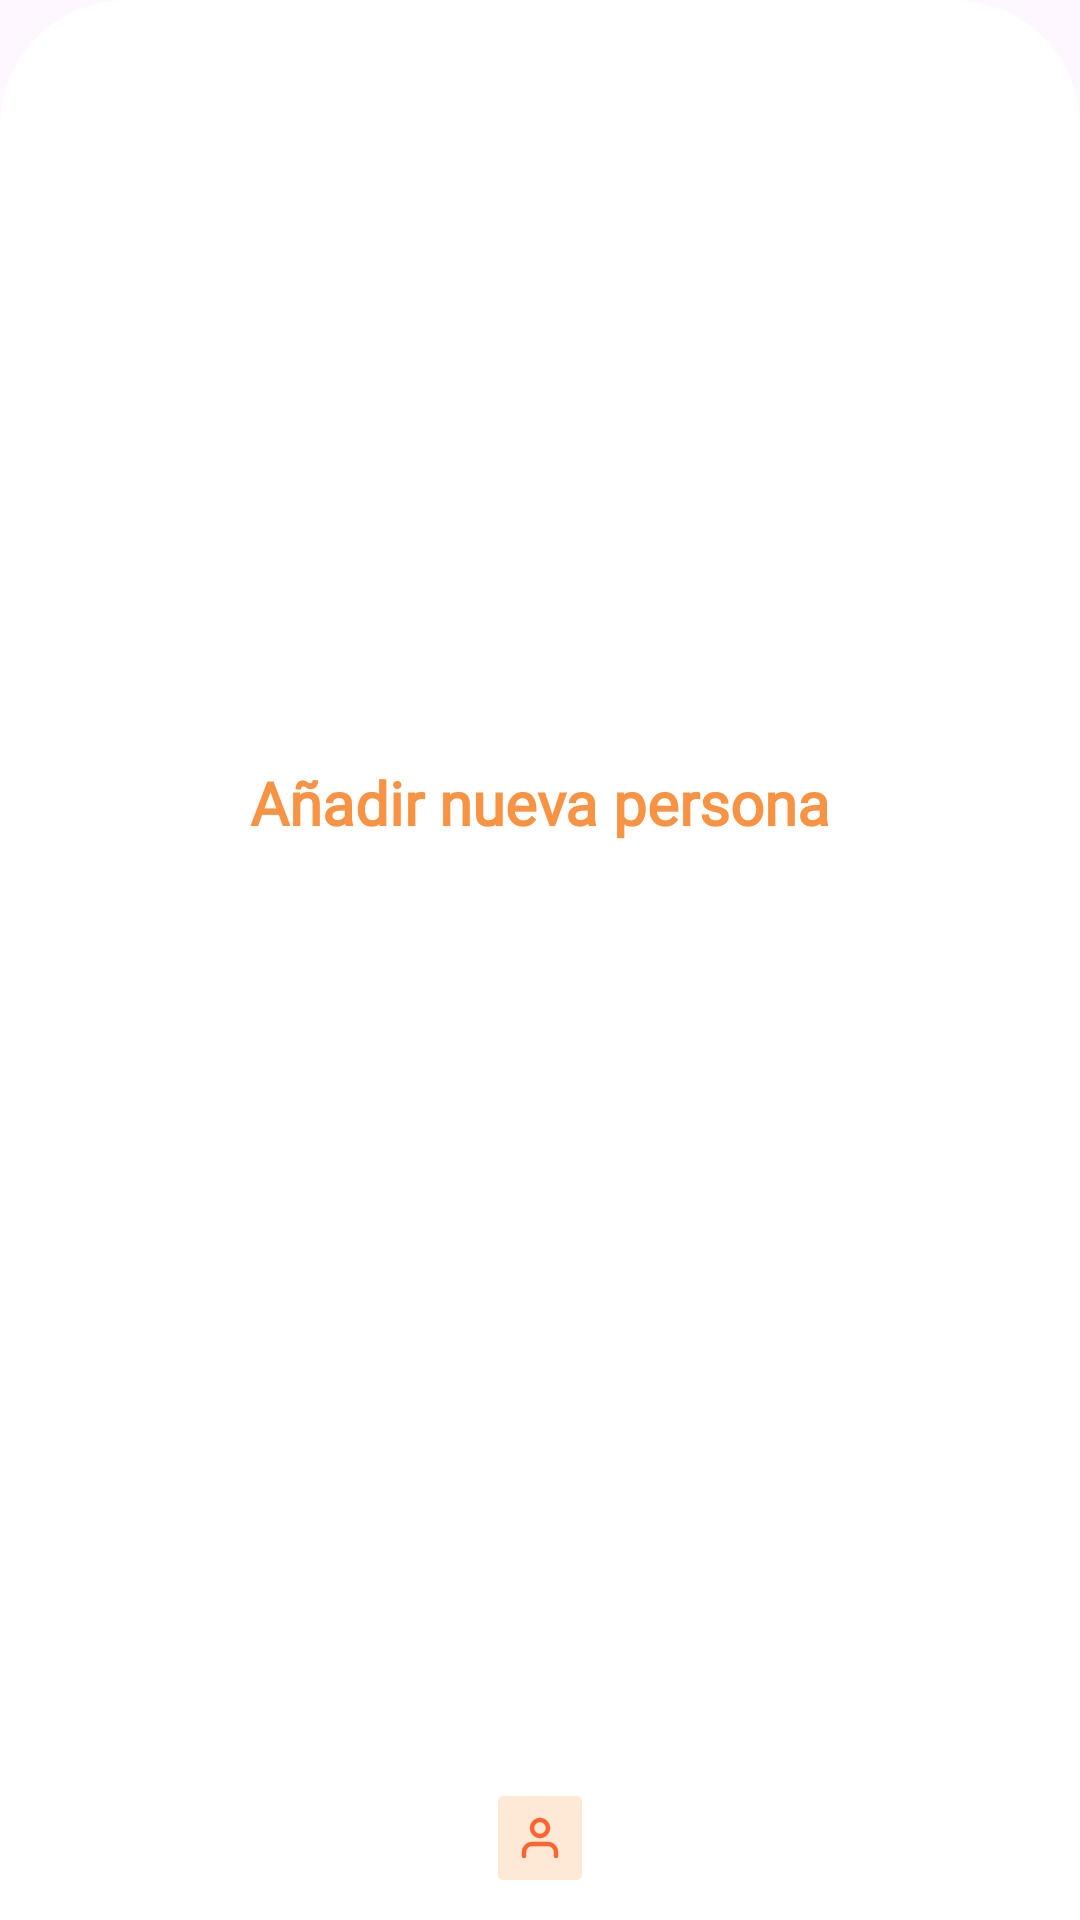

Where icons sit on this 1080px×1920px app screen, as [x1=x1, y1=y1, x2=x2, y2=y2]:
user: [x1=498, y1=1796, x2=582, y2=1880]
